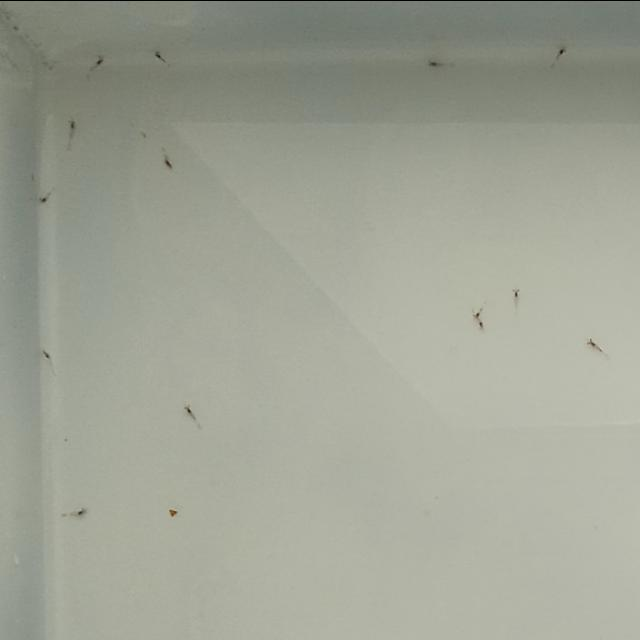shrimp-seed: (65, 114, 81, 134), (148, 47, 168, 63), (37, 346, 54, 364), (182, 402, 198, 421), (425, 54, 442, 71), (34, 191, 50, 208), (161, 156, 177, 172), (584, 335, 600, 351), (554, 43, 567, 60), (93, 52, 108, 66), (74, 504, 88, 519), (471, 307, 483, 318), (510, 286, 521, 298), (475, 316, 485, 329)
